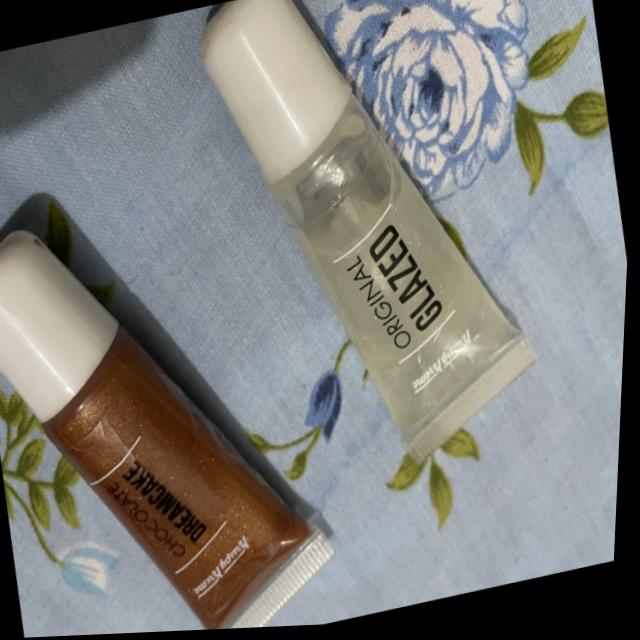lip balm: (131, 0, 586, 534), (0, 151, 399, 640)
